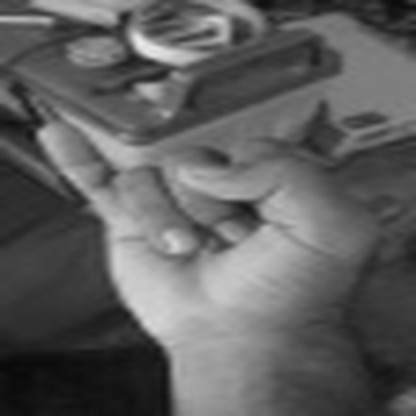i: (35, 108, 376, 329)
